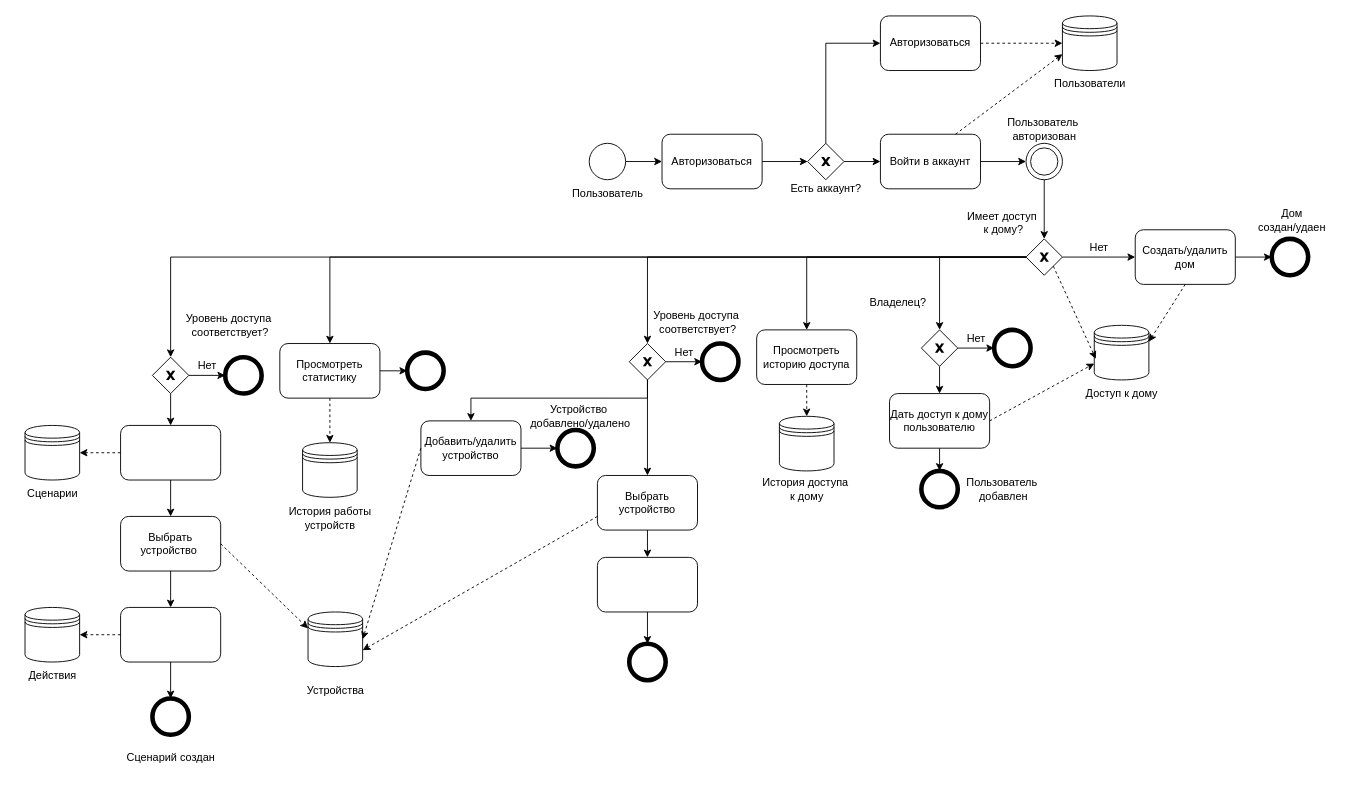
Some shapes in this 1352 by 787 pixel diagram are drawn without their labels. Here are the shapes that lost their labels. From the top down, the centre of each, then its label:
the point at 170,452: Создать/удалить сценарий
the point at 647,584: Взаимодействие с устройством
the point at 170,634: Создать/удалить действие
